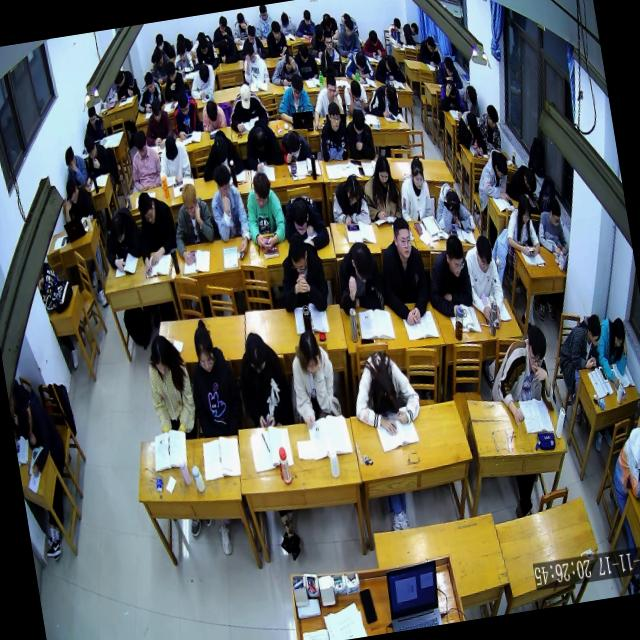bow: (346, 346, 424, 442), (279, 188, 332, 254), (98, 204, 146, 275), (238, 115, 286, 177), (195, 124, 246, 182), (340, 44, 377, 88), (504, 162, 540, 205), (266, 51, 304, 90), (278, 122, 314, 162), (372, 50, 408, 89), (360, 27, 389, 62), (213, 29, 240, 64), (112, 68, 142, 99), (317, 7, 340, 38)
down: (12, 386, 68, 479), (522, 318, 552, 376), (294, 324, 323, 375), (191, 324, 219, 376), (348, 236, 376, 284), (441, 230, 467, 278), (242, 326, 268, 374), (148, 334, 174, 381), (472, 232, 496, 276), (286, 232, 310, 276), (80, 105, 106, 144), (288, 192, 311, 235), (179, 178, 201, 220), (250, 168, 274, 206), (134, 187, 158, 225), (212, 162, 235, 200), (14, 401, 35, 438), (608, 314, 628, 352), (372, 150, 392, 187), (407, 152, 426, 190), (584, 310, 603, 348), (107, 210, 128, 243), (248, 124, 270, 154), (343, 172, 362, 206), (210, 130, 230, 161), (444, 186, 463, 218), (546, 197, 564, 230), (132, 126, 150, 158), (350, 106, 368, 138), (288, 69, 306, 99), (162, 132, 180, 162), (516, 194, 532, 226), (238, 80, 255, 110), (492, 150, 509, 180), (284, 128, 302, 155), (323, 72, 339, 102), (522, 164, 538, 194), (484, 102, 500, 132), (204, 98, 221, 125), (149, 94, 164, 124), (465, 106, 480, 136), (64, 178, 80, 206), (175, 89, 191, 117), (63, 146, 78, 173), (349, 78, 364, 105), (382, 82, 398, 107), (352, 46, 368, 70), (242, 39, 257, 64), (84, 136, 98, 162), (176, 38, 190, 64), (142, 70, 156, 96), (197, 62, 212, 86), (151, 46, 165, 70), (164, 60, 178, 84), (342, 15, 356, 39), (465, 84, 479, 108), (442, 54, 456, 78), (244, 23, 258, 46), (269, 19, 283, 42), (383, 51, 398, 72), (297, 40, 311, 62), (249, 77, 269, 92), (85, 105, 98, 128), (313, 21, 326, 44), (282, 51, 296, 72), (444, 77, 458, 98), (112, 69, 126, 89), (152, 32, 166, 52), (322, 11, 334, 34), (198, 34, 210, 56), (424, 32, 436, 54), (217, 38, 230, 58), (217, 14, 230, 34), (301, 8, 313, 29), (279, 10, 291, 30), (368, 29, 380, 49), (236, 11, 248, 29), (409, 17, 419, 37), (258, 5, 269, 23), (392, 16, 402, 35)
lookup: (389, 214, 415, 262), (326, 100, 344, 133), (320, 27, 336, 52)
sit: (180, 309, 247, 439), (480, 320, 560, 426), (371, 211, 435, 329), (230, 323, 296, 430), (142, 330, 200, 445), (282, 323, 344, 428), (272, 225, 330, 315), (418, 228, 476, 318), (204, 158, 254, 260), (166, 176, 219, 268), (132, 187, 184, 280), (461, 232, 509, 332), (332, 236, 388, 318), (240, 168, 290, 254), (552, 312, 608, 377), (358, 150, 404, 222), (592, 313, 634, 388), (604, 418, 640, 501), (392, 152, 434, 222), (500, 192, 542, 262), (222, 80, 272, 138), (312, 98, 353, 166), (124, 124, 166, 190), (326, 168, 371, 227), (306, 71, 348, 132), (272, 70, 316, 128), (470, 146, 512, 206), (531, 193, 570, 257), (153, 132, 194, 189), (58, 172, 98, 228), (77, 128, 115, 184), (341, 102, 376, 161), (140, 95, 176, 151), (168, 85, 204, 140), (453, 104, 487, 156), (314, 27, 346, 82), (238, 38, 272, 88), (132, 68, 166, 116), (364, 80, 402, 122), (476, 100, 504, 154), (436, 76, 467, 122), (61, 144, 90, 192), (236, 22, 269, 64), (333, 13, 363, 59), (446, 298, 482, 336), (341, 76, 371, 120), (186, 61, 218, 102), (432, 51, 464, 91), (158, 58, 187, 102), (291, 37, 320, 80), (190, 30, 220, 70), (262, 18, 290, 60), (198, 95, 228, 133), (148, 45, 175, 87), (208, 13, 236, 50), (416, 30, 442, 69), (304, 20, 329, 60), (170, 34, 196, 72), (291, 6, 318, 42), (250, 5, 276, 42), (147, 32, 177, 64), (230, 9, 254, 47), (458, 79, 481, 117), (384, 12, 407, 50), (277, 7, 297, 35), (402, 20, 422, 48)
